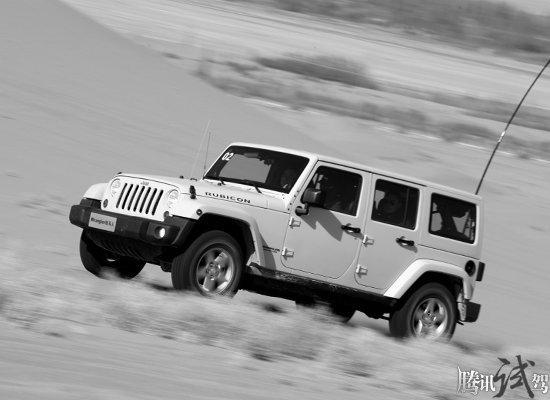car: (67, 138, 491, 348)
